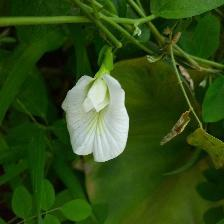shankupushpam: (60, 73, 132, 165)
